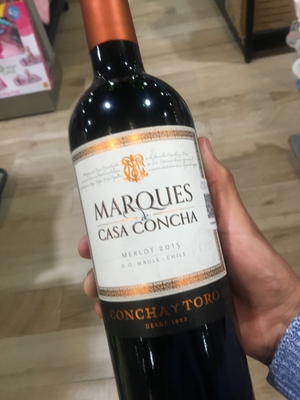marques de casa concha merlot: (65, 17, 253, 384)
